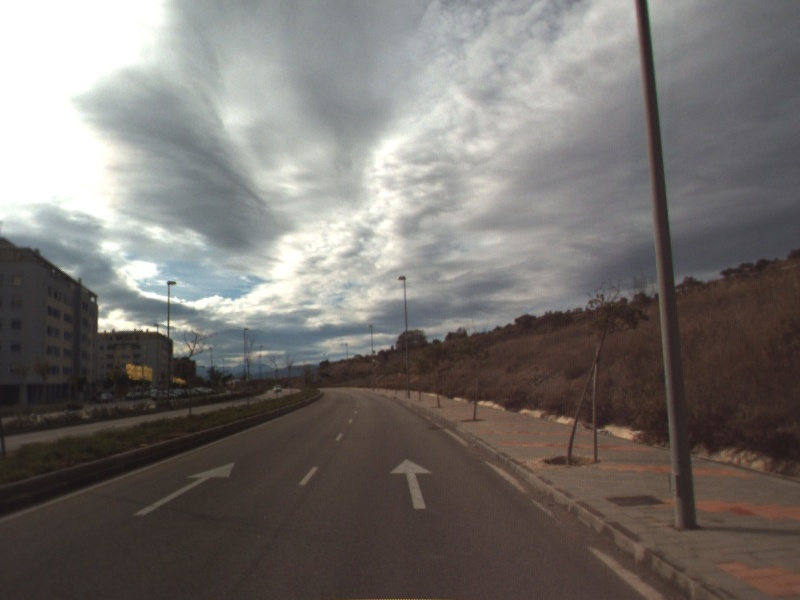STRAIGHT: (131, 460, 237, 517), (388, 456, 435, 511)
